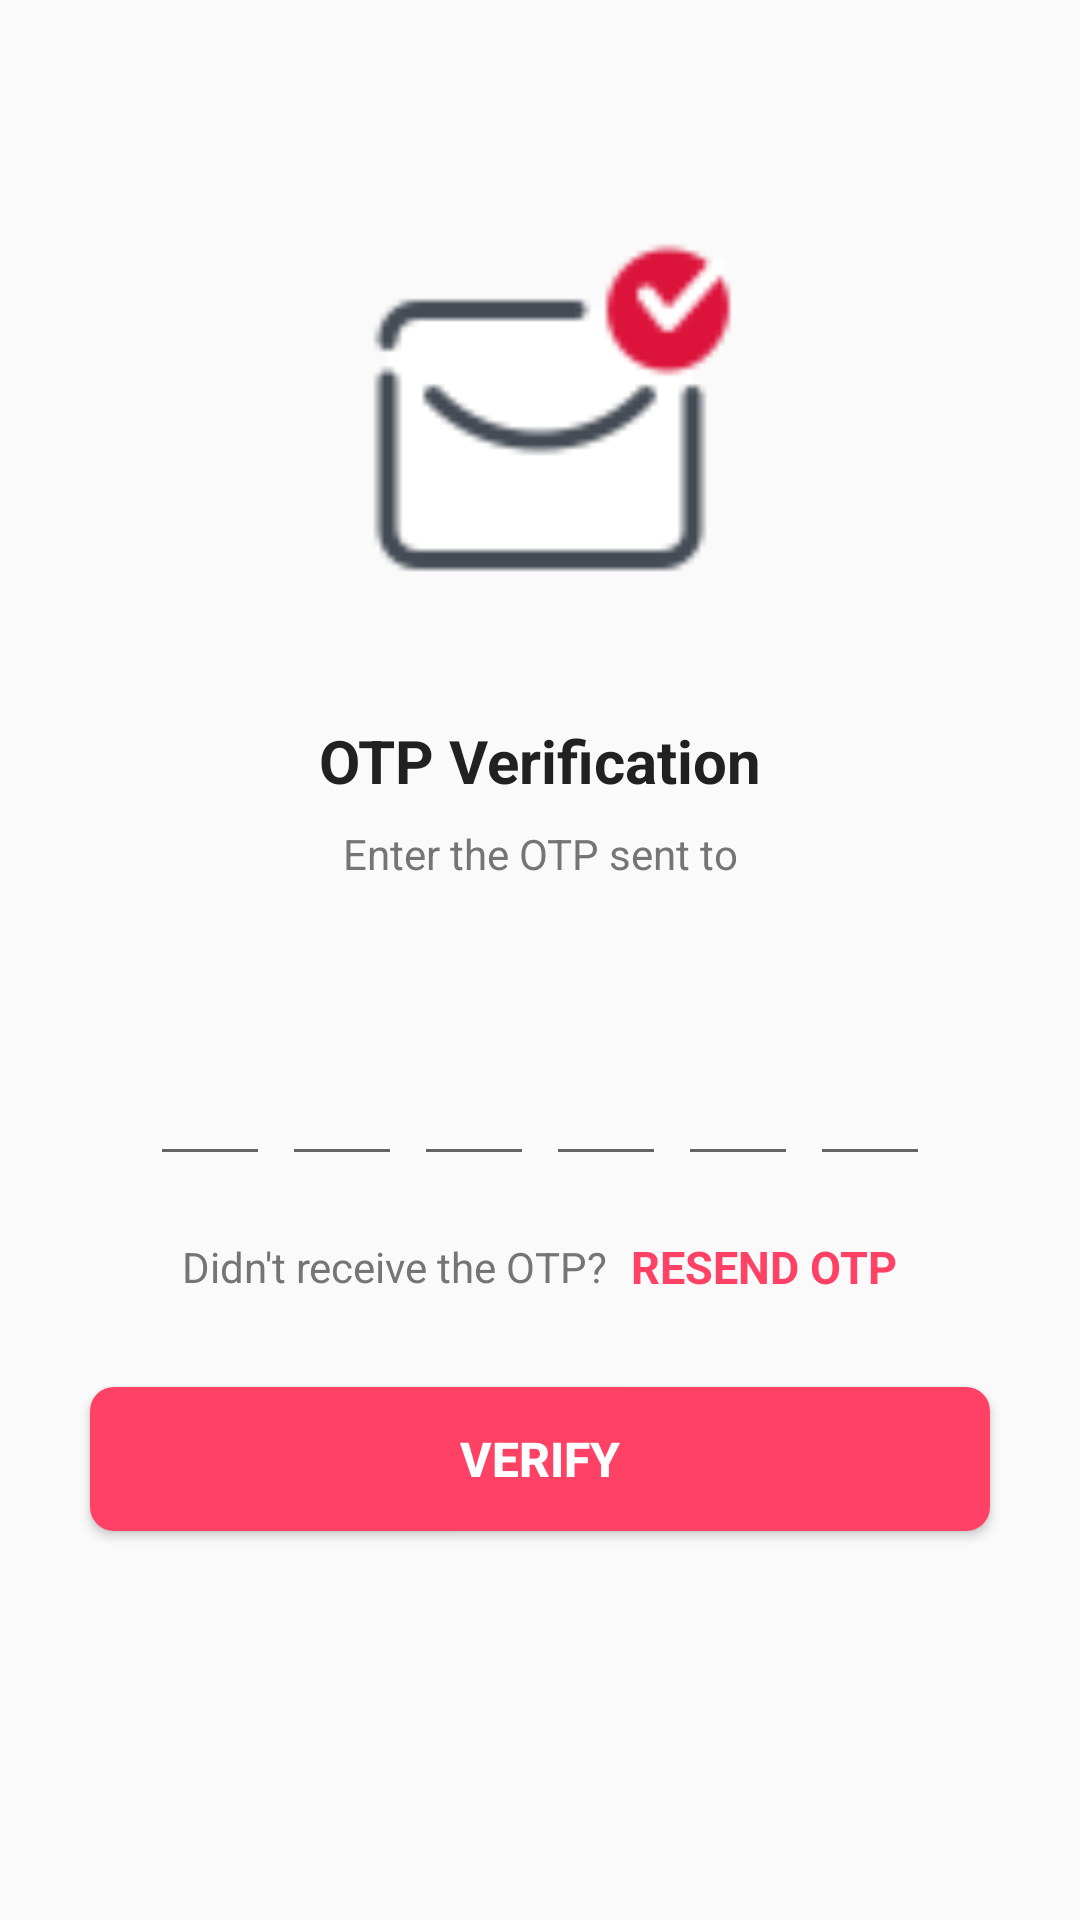

Screen size 1080w x 1920h. Icon name, then its box in pixels as (x1, y1, x2, y2):
recived: (374, 244, 731, 571)
